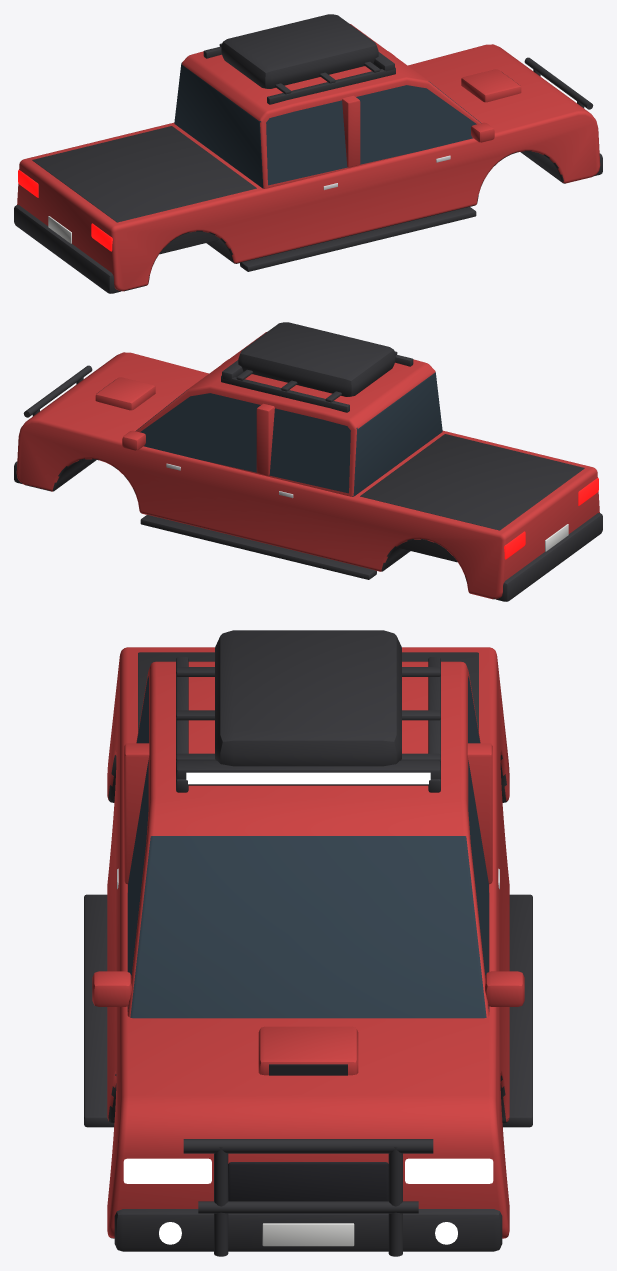
File: picape_dupla.glb
3 renders of one model, top to bottom at view 1: azimuth 30°, elevation 25°; view 2: azimuth 150°, elevation 25°; view 3: azimuth 270°, elevation 25°, orthographic. The views are drawn at different scales.
Visible parts, largest first — view 1: carroceria, cabine, cacamba, bagageiro, estribo, parachoque_t, tomada, coluna0, rack_trilho, qm_barra, retrovisor-1; view 2: carroceria, cabine, cacamba, bagageiro, estribo.001, parachoque_t, tomada, coluna0, rack_trilho.001, qm_barra, retrovisor1; view 3: cabine, carroceria, bagageiro, parachoque_d, grade, estribo, estribo.001, coluna0, tomada, qm_barra, led_luz, led_suporte (+13 smaller).
Part boxes in pixels (left/top/right/bottom): carroceria: left=17, top=44, right=600, bottom=291; cabine: left=174, top=24, right=481, bottom=188; cacamba: left=32, top=126, right=256, bottom=254; bagageiro: left=221, top=14, right=378, bottom=88; estribo: left=240, top=207, right=476, bottom=271; parachoque_t: left=14, top=205, right=120, bottom=293; tomada: left=461, top=69, right=521, bottom=102; coluna0: left=342, top=95, right=360, bottom=167; rack_trilho: left=267, top=67, right=395, bottom=104; qm_barra: left=524, top=57, right=593, bottom=109; retrovisor-1: left=471, top=122, right=494, bottom=142; carroceria: left=16, top=352, right=599, bottom=599; cabine: left=135, top=332, right=442, bottom=496; cacamba: left=360, top=434, right=584, bottom=562; bagageiro: left=238, top=322, right=395, bottom=396; estribo.001: left=140, top=515, right=376, bottom=579; parachoque_t: left=496, top=513, right=602, bottom=601; tomada: left=95, top=377, right=155, bottom=410; coluna0: left=256, top=403, right=274, bottom=475; rack_trilho.001: left=221, top=375, right=349, bottom=412; qm_barra: left=23, top=365, right=92, bottom=417; retrovisor1: left=122, top=430, right=145, bottom=450; cabine: left=127, top=661, right=489, bottom=1018; carroceria: left=107, top=647, right=509, bottom=1238; bagageiro: left=215, top=630, right=401, bottom=766; parachoque_d: left=114, top=1209, right=502, bottom=1251; grade: left=228, top=1162, right=388, bottom=1201; estribo: left=84, top=894, right=114, bottom=1127; estribo.001: left=502, top=894, right=532, bottom=1127; coluna0: left=124, top=743, right=492, bottom=884; tomada: left=258, top=1026, right=358, bottom=1075; qm_barra: left=183, top=1139, right=433, bottom=1153; led_luz: left=186, top=772, right=430, bottom=784; led_suporte: left=176, top=760, right=440, bottom=785.
Bounding box in the file's own units: 5.59 × 1.75 × 2.16.
